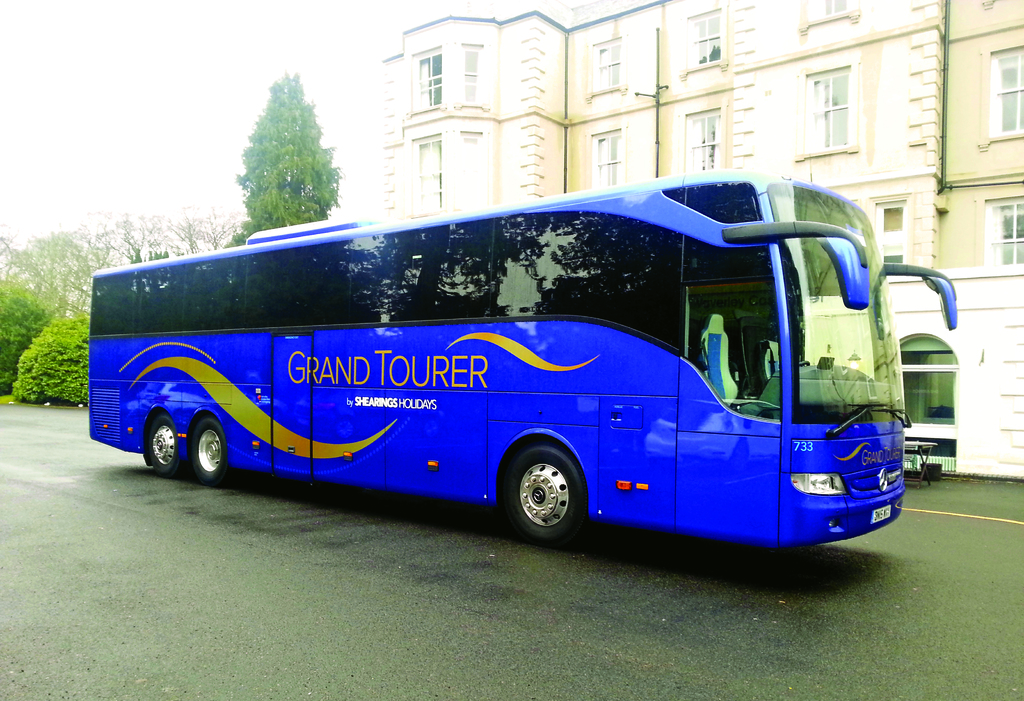Bus: (88, 168, 957, 548)
